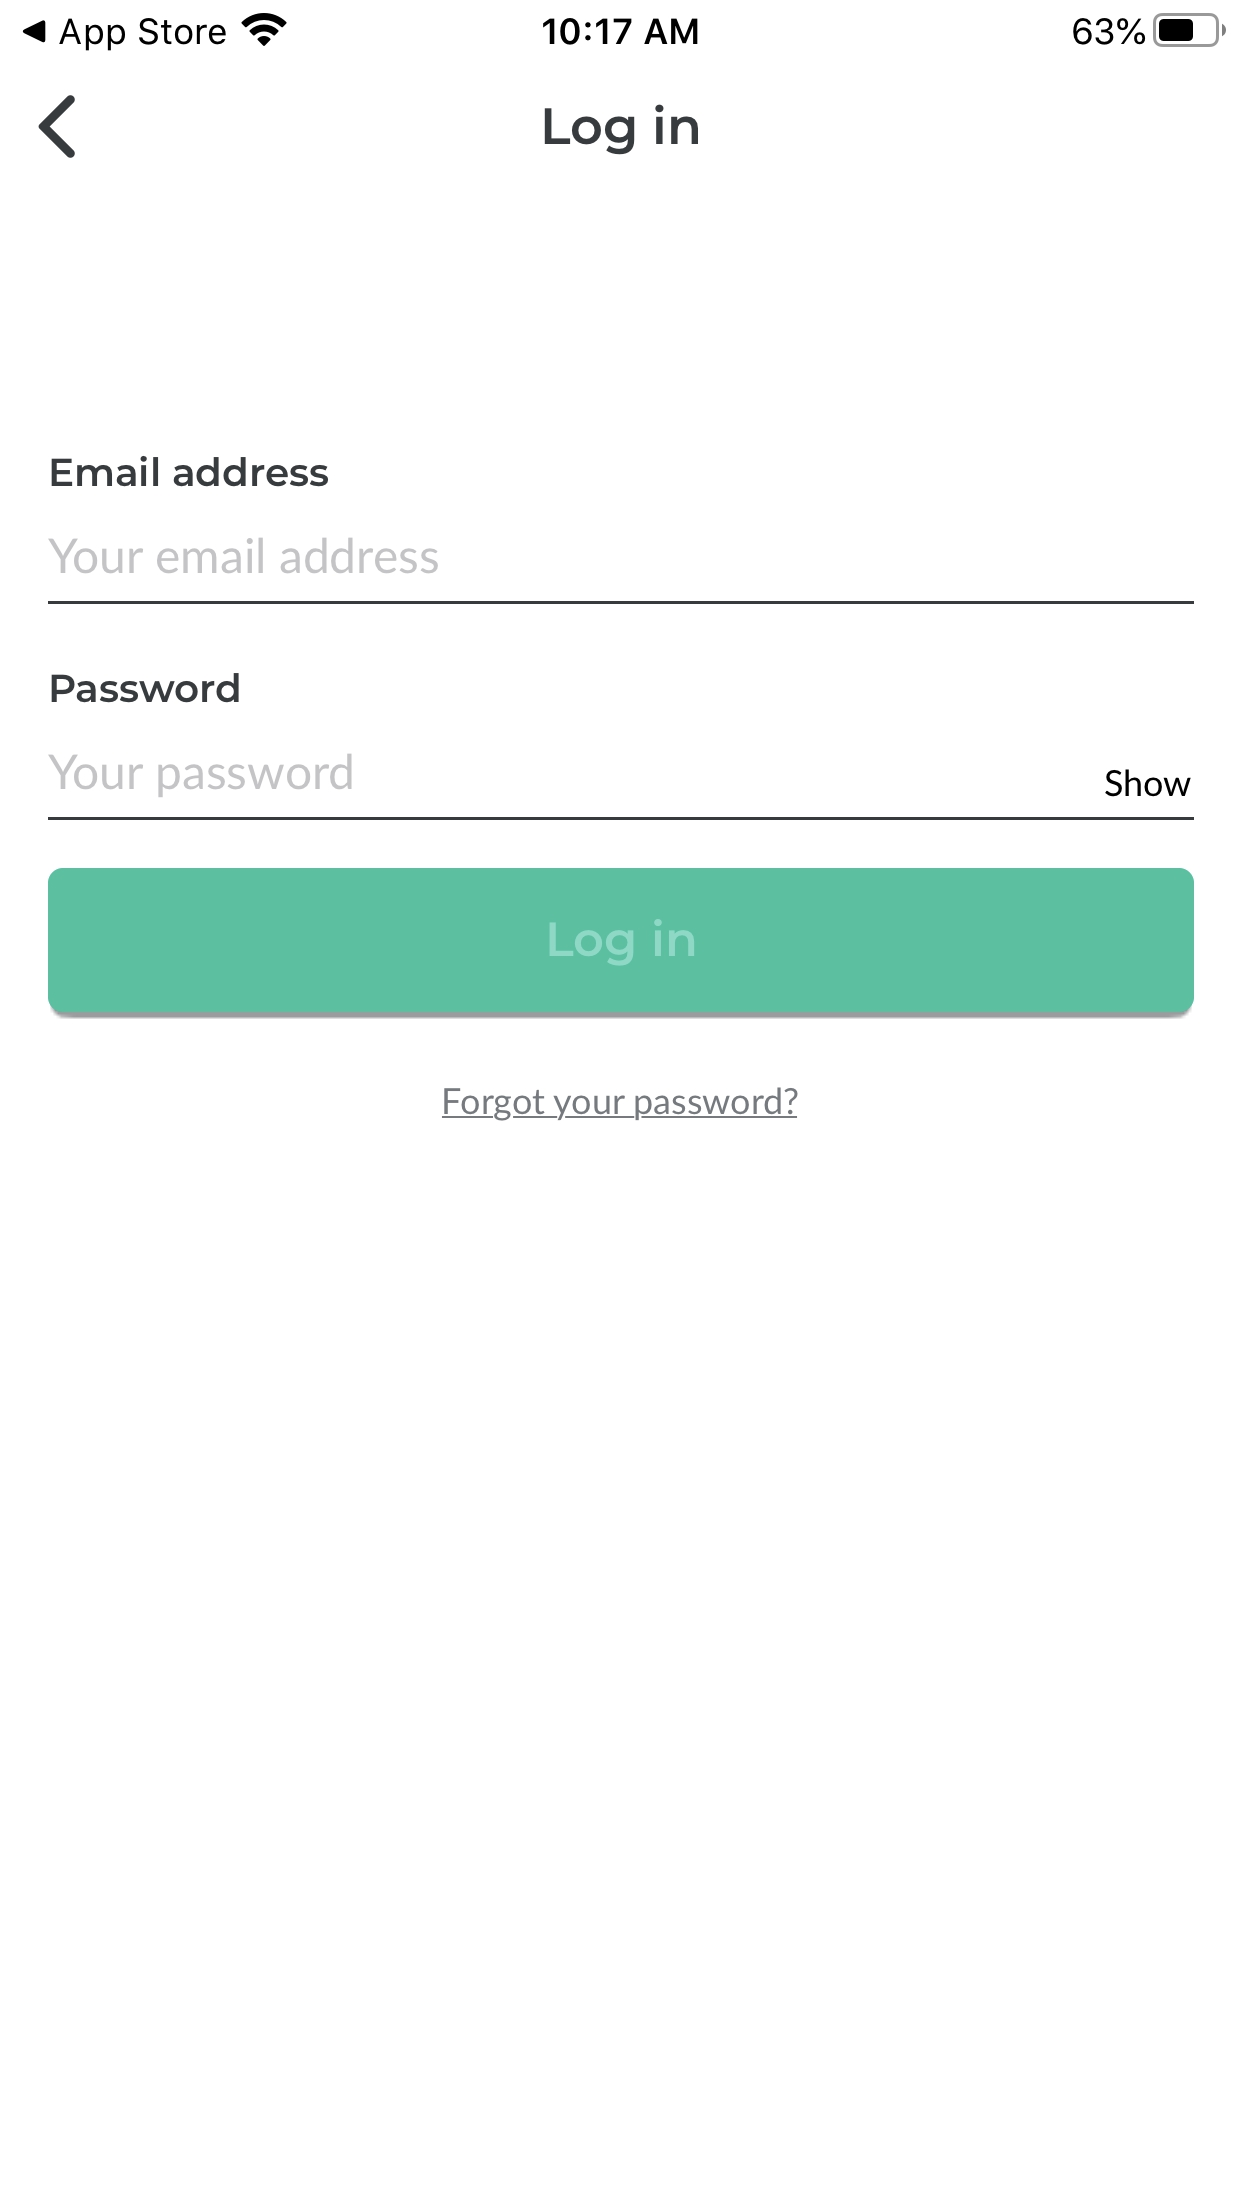EditText: (49, 754, 1193, 820), (49, 537, 1193, 604)
Icon: (38, 96, 74, 158)
Text: (49, 537, 438, 575), (49, 754, 352, 798), (441, 1087, 798, 1121), (52, 455, 328, 487), (544, 105, 698, 156), (52, 673, 240, 704), (1106, 769, 1190, 798)
TextButton: (49, 867, 1193, 1019)
UpperTaskBar: (2, 2, 1242, 52)
